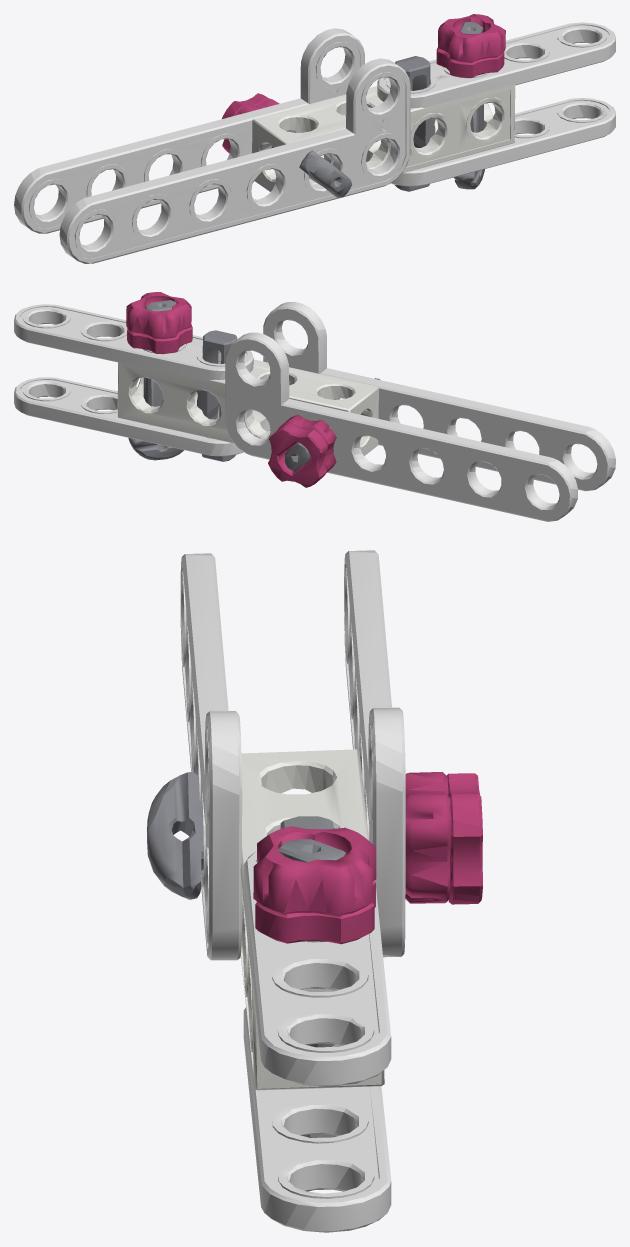
Rendered from state6.fbx.
The picture shows the model from 3 angles, top to bottom: view 1: azimuth 30°, elevation 25°; view 2: azimuth 150°, elevation 25°; view 3: azimuth 270°, elevation 25°; orthographic projection. The views are drawn at different scales.
Parts seen in each view (by area): view 1: Pin SPP INR LCT BDR BU01.00x00.50 - SPN-PIN-0094 (stemfie.or; view 2: Pin SPP INR LCT BDR BU01.00x00.50 - SPN-PIN-0094 (stemfie.or; view 3: Pin SPP INR LCT BDR BU01.00x00.50 - SPN-PIN-0094 (stemfie.or.
Part boxes in pixels (x1,y1,x2,y2): Pin SPP INR LCT BDR BU01.00x00.50 - SPN-PIN-0094 (stemfie.or: (14, 14, 615, 263); Pin SPP INR LCT BDR BU01.00x00.50 - SPN-PIN-0094 (stemfie.or: (14, 292, 615, 521); Pin SPP INR LCT BDR BU01.00x00.50 - SPN-PIN-0094 (stemfie.or: (147, 550, 482, 1232).
Size of the model in its own units: 12481 by 3426 by 3213.
